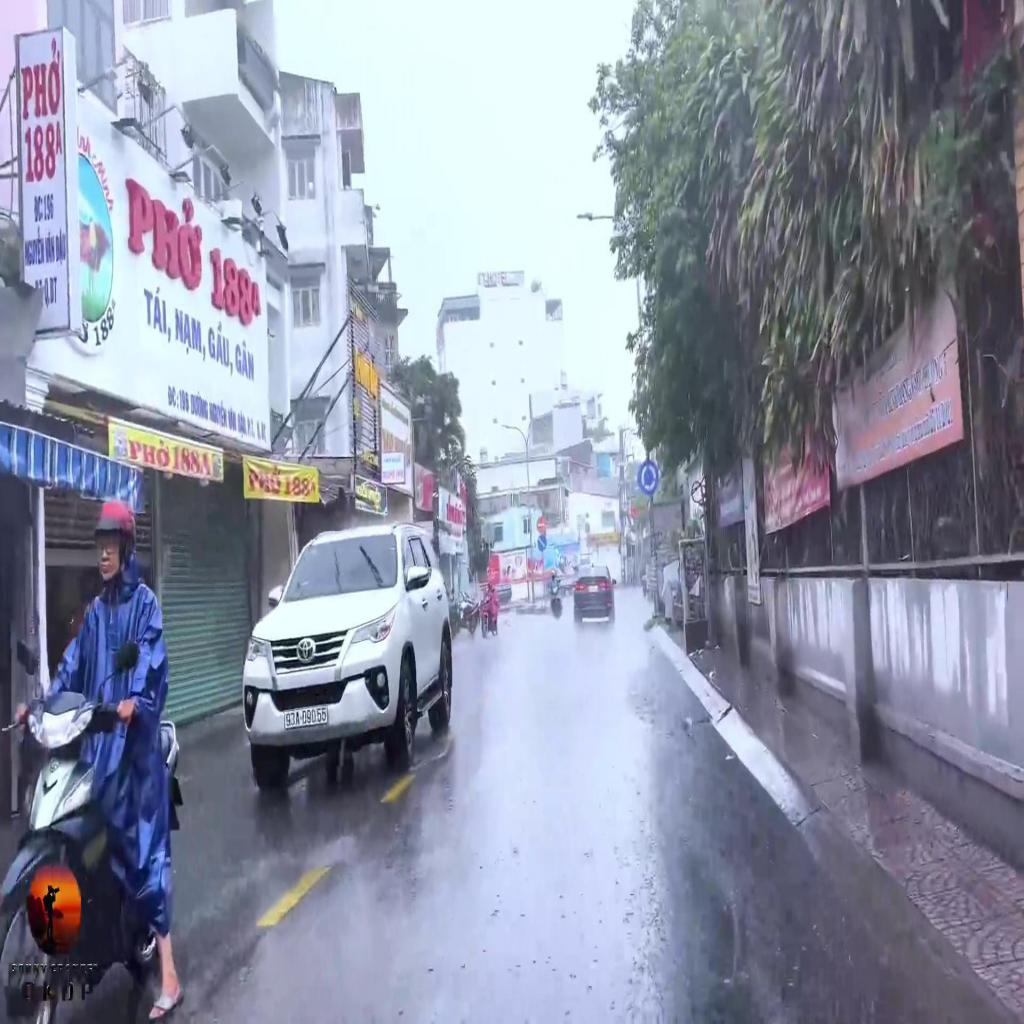cam_xe_di_nguoc_chieu: (536, 513, 547, 532)
huong_phai_di_vuot_chuong_ngai_vat_phai: (539, 535, 546, 552)
noi_giao_nhau_chay_theo_vong: (638, 460, 657, 496)
